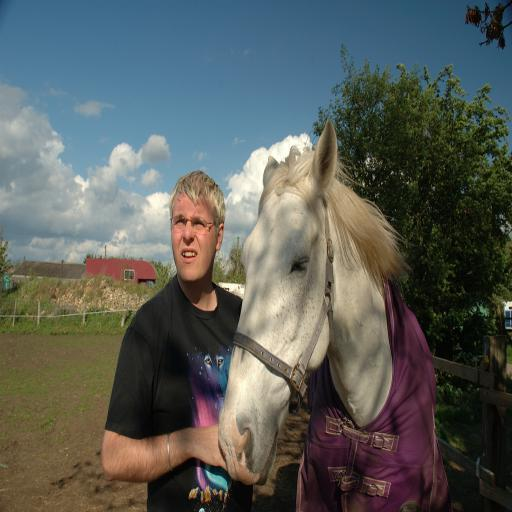horse: (214, 116, 417, 490)
